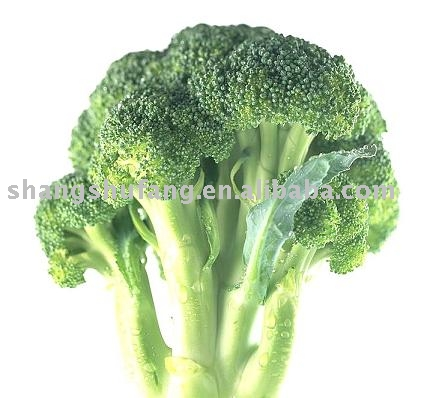broccoli: (35, 24, 396, 393)
